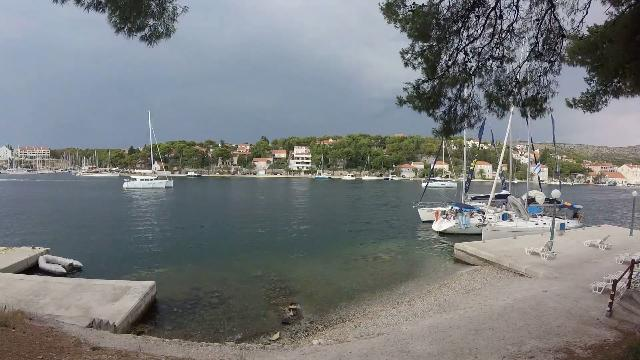Sailboat: (119, 168, 183, 192)
